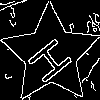H: (25, 29, 81, 87)
